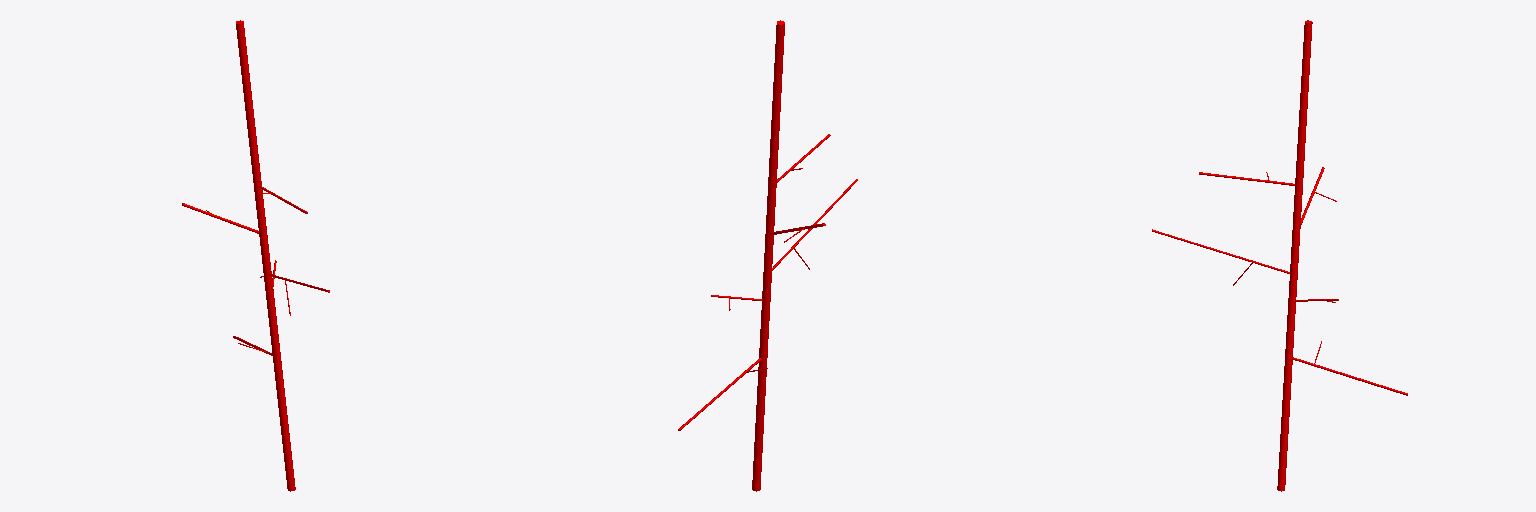
URDF robot description (tree_127.urdf):
<?xml version='1.0' encoding='UTF-8'?>
<robot name="tree_127.urdf">
  <link name="branch_0">
    <inertial>
      <origin xyz="0.0 0.0 0.0" rpy="0.0 -0.0 0.0"/>
      <mass value="0.1"/>
      <inertia ixx="0.001" ixy="0.0" ixz="0.0" iyy="0.001" iyz="0.0" izz="0.001"/>
    </inertial>
    <visual name="branch_0_visual">
      <geometry>
        <cylinder radius="0.06778281076660214" length="8.518709219936921"/>
      </geometry>
      <material name="semantic_material"/>
      <origin xyz="-0.35900316015694433 0.23380783106809552 4.237753216338598" rpy="-1.7443487696411858e-17 0.10075525332266548 2.564325463829873"/>
    </visual>
    <collision name="branch_0_collision">
      <geometry>
        <cylinder radius="0.06778281076660214" length="8.518709219936921"/>
      </geometry>
      <origin xyz="-0.35900316015694433 0.23380783106809552 4.237753216338598" rpy="-1.7443487696411858e-17 0.10075525332266548 2.564325463829873"/>
    </collision>
  </link>
  <link name="branch_1">
    <inertial>
      <origin xyz="0.0 0.0 0.0" rpy="0.0 -0.0 0.0"/>
      <mass value="0.1"/>
      <inertia ixx="0.001" ixy="0.0" ixz="0.0" iyy="0.001" iyz="0.0" izz="0.001"/>
    </inertial>
    <visual name="branch_1_visual">
      <geometry>
        <cylinder radius="0.020718319036234976" length="1.7189051199871772"/>
      </geometry>
      <material name="semantic_material"/>
      <origin xyz="0.0 0.0 0.0" rpy="0.0 -0.0 0.0"/>
    </visual>
    <collision name="branch_1_collision">
      <geometry>
        <cylinder radius="0.020718319036234976" length="1.7189051199871772"/>
      </geometry>
      <origin xyz="0.0 0.0 0.0" rpy="0.0 -0.0 0.0"/>
    </collision>
  </link>
  <link name="branch_2">
    <inertial>
      <origin xyz="0.0 0.0 0.0" rpy="0.0 -0.0 0.0"/>
      <mass value="0.1"/>
      <inertia ixx="0.001" ixy="0.0" ixz="0.0" iyy="0.001" iyz="0.0" izz="0.001"/>
    </inertial>
    <visual name="branch_2_visual">
      <geometry>
        <cylinder radius="0.01" length="0.2423221883651651"/>
      </geometry>
      <material name="semantic_material"/>
      <origin xyz="0.0 0.0 0.0" rpy="0.0 -0.0 0.0"/>
    </visual>
    <collision name="branch_2_collision">
      <geometry>
        <cylinder radius="0.01" length="0.2423221883651651"/>
      </geometry>
      <origin xyz="0.0 0.0 0.0" rpy="0.0 -0.0 0.0"/>
    </collision>
  </link>
  <link name="branch_3">
    <inertial>
      <origin xyz="0.0 0.0 0.0" rpy="0.0 -0.0 0.0"/>
      <mass value="0.1"/>
      <inertia ixx="0.001" ixy="0.0" ixz="0.0" iyy="0.001" iyz="0.0" izz="0.001"/>
    </inertial>
    <visual name="branch_3_visual">
      <geometry>
        <cylinder radius="0.01871146819865618" length="2.536336417005465"/>
      </geometry>
      <material name="semantic_material"/>
      <origin xyz="0.0 0.0 0.0" rpy="0.0 -0.0 0.0"/>
    </visual>
    <collision name="branch_3_collision">
      <geometry>
        <cylinder radius="0.01871146819865618" length="2.536336417005465"/>
      </geometry>
      <origin xyz="0.0 0.0 0.0" rpy="0.0 -0.0 0.0"/>
    </collision>
  </link>
  <link name="branch_4">
    <inertial>
      <origin xyz="0.0 0.0 0.0" rpy="0.0 -0.0 0.0"/>
      <mass value="0.1"/>
      <inertia ixx="0.001" ixy="0.0" ixz="0.0" iyy="0.001" iyz="0.0" izz="0.001"/>
    </inertial>
    <visual name="branch_4_visual">
      <geometry>
        <cylinder radius="0.01" length="0.6154525276943494"/>
      </geometry>
      <material name="semantic_material"/>
      <origin xyz="0.0 0.0 0.0" rpy="0.0 -0.0 0.0"/>
    </visual>
    <collision name="branch_4_collision">
      <geometry>
        <cylinder radius="0.01" length="0.6154525276943494"/>
      </geometry>
      <origin xyz="0.0 0.0 0.0" rpy="0.0 -0.0 0.0"/>
    </collision>
  </link>
  <link name="branch_5">
    <inertial>
      <origin xyz="0.0 0.0 0.0" rpy="0.0 -0.0 0.0"/>
      <mass value="0.1"/>
      <inertia ixx="0.001" ixy="0.0" ixz="0.0" iyy="0.001" iyz="0.0" izz="0.001"/>
    </inertial>
    <visual name="branch_5_visual">
      <geometry>
        <cylinder radius="0.023925391107323394" length="1.4984983322905292"/>
      </geometry>
      <material name="semantic_material"/>
      <origin xyz="0.0 0.0 0.0" rpy="0.0 -0.0 0.0"/>
    </visual>
    <collision name="branch_5_collision">
      <geometry>
        <cylinder radius="0.023925391107323394" length="1.4984983322905292"/>
      </geometry>
      <origin xyz="0.0 0.0 0.0" rpy="0.0 -0.0 0.0"/>
    </collision>
  </link>
  <link name="branch_6">
    <inertial>
      <origin xyz="0.0 0.0 0.0" rpy="0.0 -0.0 0.0"/>
      <mass value="0.1"/>
      <inertia ixx="0.001" ixy="0.0" ixz="0.0" iyy="0.001" iyz="0.0" izz="0.001"/>
    </inertial>
    <visual name="branch_6_visual">
      <geometry>
        <cylinder radius="0.01" length="0.4393510343611775"/>
      </geometry>
      <material name="semantic_material"/>
      <origin xyz="0.0 0.0 0.0" rpy="0.0 -0.0 0.0"/>
    </visual>
    <collision name="branch_6_collision">
      <geometry>
        <cylinder radius="0.01" length="0.4393510343611775"/>
      </geometry>
      <origin xyz="0.0 0.0 0.0" rpy="0.0 -0.0 0.0"/>
    </collision>
  </link>
  <link name="branch_7">
    <inertial>
      <origin xyz="0.0 0.0 0.0" rpy="0.0 -0.0 0.0"/>
      <mass value="0.1"/>
      <inertia ixx="0.001" ixy="0.0" ixz="0.0" iyy="0.001" iyz="0.0" izz="0.001"/>
    </inertial>
    <visual name="branch_7_visual">
      <geometry>
        <cylinder radius="0.01698867268324516" length="0.9959844409962467"/>
      </geometry>
      <material name="semantic_material"/>
      <origin xyz="0.0 0.0 0.0" rpy="0.0 -0.0 0.0"/>
    </visual>
    <collision name="branch_7_collision">
      <geometry>
        <cylinder radius="0.01698867268324516" length="0.9959844409962467"/>
      </geometry>
      <origin xyz="0.0 0.0 0.0" rpy="0.0 -0.0 0.0"/>
    </collision>
  </link>
  <link name="branch_8">
    <inertial>
      <origin xyz="0.0 0.0 0.0" rpy="0.0 -0.0 0.0"/>
      <mass value="0.1"/>
      <inertia ixx="0.001" ixy="0.0" ixz="0.0" iyy="0.001" iyz="0.0" izz="0.001"/>
    </inertial>
    <visual name="branch_8_visual">
      <geometry>
        <cylinder radius="0.01" length="0.2708786821363981"/>
      </geometry>
      <material name="semantic_material"/>
      <origin xyz="0.0 0.0 0.0" rpy="0.0 -0.0 0.0"/>
    </visual>
    <collision name="branch_8_collision">
      <geometry>
        <cylinder radius="0.01" length="0.2708786821363981"/>
      </geometry>
      <origin xyz="0.0 0.0 0.0" rpy="0.0 -0.0 0.0"/>
    </collision>
  </link>
  <link name="branch_9">
    <inertial>
      <origin xyz="0.0 0.0 0.0" rpy="0.0 -0.0 0.0"/>
      <mass value="0.1"/>
      <inertia ixx="0.001" ixy="0.0" ixz="0.0" iyy="0.001" iyz="0.0" izz="0.001"/>
    </inertial>
    <visual name="branch_9_visual">
      <geometry>
        <cylinder radius="0.02161725523111497" length="2.1318150690104907"/>
      </geometry>
      <material name="semantic_material"/>
      <origin xyz="0.0 0.0 0.0" rpy="0.0 -0.0 0.0"/>
    </visual>
    <collision name="branch_9_collision">
      <geometry>
        <cylinder radius="0.02161725523111497" length="2.1318150690104907"/>
      </geometry>
      <origin xyz="0.0 0.0 0.0" rpy="0.0 -0.0 0.0"/>
    </collision>
  </link>
  <link name="branch_10">
    <inertial>
      <origin xyz="0.0 0.0 0.0" rpy="0.0 -0.0 0.0"/>
      <mass value="0.1"/>
      <inertia ixx="0.001" ixy="0.0" ixz="0.0" iyy="0.001" iyz="0.0" izz="0.001"/>
    </inertial>
    <visual name="branch_10_visual">
      <geometry>
        <cylinder radius="0.01" length="0.5558819730737448"/>
      </geometry>
      <material name="semantic_material"/>
      <origin xyz="0.0 0.0 0.0" rpy="0.0 -0.0 0.0"/>
    </visual>
    <collision name="branch_10_collision">
      <geometry>
        <cylinder radius="0.01" length="0.5558819730737448"/>
      </geometry>
      <origin xyz="0.0 0.0 0.0" rpy="0.0 -0.0 0.0"/>
    </collision>
  </link>
  <joint name="joint_0_1" type="fixed">
    <parent link="branch_0"/>
    <child link="branch_1"/>
    <axis xyz="1. 0. 0."/>
    <origin xyz="-0.49502542917894976 -0.5487310236595776 5.616218463240477" rpy="0.6278817564323169 1.424530753938499 -0.9704202349749887"/>
  </joint>
  <joint name="joint_0_3" type="fixed">
    <parent link="branch_0"/>
    <child link="branch_3"/>
    <axis xyz="1. 0. 0."/>
    <origin xyz="-0.4458103411601589 -0.9949932660586619 4.2639811889164285" rpy="0.29998689629091435 1.2685652759676973 -1.3523019546057347"/>
  </joint>
  <joint name="joint_0_5" type="fixed">
    <parent link="branch_0"/>
    <child link="branch_5"/>
    <axis xyz="1. 0. 0."/>
    <origin xyz="-1.026562020332673 0.48826644790051854 4.959490380209879" rpy="0.05471967290949808 1.121841967433416 2.850713412331476"/>
  </joint>
  <joint name="joint_0_7" type="fixed">
    <parent link="branch_0"/>
    <child link="branch_7"/>
    <axis xyz="1. 0. 0."/>
    <origin xyz="-0.015832831724621008 0.5816417619967571 3.5630815779155682" rpy="-0.35184908753381056 1.2751985013071767 0.5941824577709244"/>
  </joint>
  <joint name="joint_0_9" type="fixed">
    <parent link="branch_0"/>
    <child link="branch_9"/>
    <axis xyz="1. 0. 0."/>
    <origin xyz="-0.022765590733575047 1.1477826981330925 2.1365313714052703" rpy="-2.7947385684359265 1.2975899787227763 -1.3882951741514098"/>
  </joint>
  <joint name="joint_1_2" type="fixed">
    <parent link="branch_0"/>
    <child link="branch_2"/>
    <axis xyz="1. 0. 0."/>
    <origin xyz="-0.5968710375763149 -0.22360929546461109 5.612091568463061" rpy="-1.2589068950395872 0.043294493026435836 1.7781339193422232"/>
  </joint>
  <joint name="joint_3_4" type="fixed">
    <parent link="branch_0"/>
    <child link="branch_4"/>
    <axis xyz="1. 0. 0."/>
    <origin xyz="-0.4477918122393136 -0.6487001238403596 3.860031223426872" rpy="-3.001276894604666 0.6130416956403394 1.522885653627723"/>
  </joint>
  <joint name="joint_5_6" type="fixed">
    <parent link="branch_0"/>
    <child link="branch_6"/>
    <axis xyz="1. 0. 0."/>
    <origin xyz="-1.134159249378271 0.7532499373312167 4.991865298152472" rpy="-1.866877163138915 0.4206416314589419 -0.4600299925050677"/>
  </joint>
  <joint name="joint_7_8" type="fixed">
    <parent link="branch_0"/>
    <child link="branch_8"/>
    <axis xyz="1. 0. 0."/>
    <origin xyz="0.012469060760690962 0.8230184767347187 3.5565722815643435" rpy="2.0158323742660396 0.3799350611997699 -2.3896115573386645"/>
  </joint>
  <joint name="joint_9_10" type="fixed">
    <parent link="branch_0"/>
    <child link="branch_10"/>
    <axis xyz="1. 0. 0."/>
    <origin xyz="-0.3708647925428789 0.6301444772654443 2.4077899762948953" rpy="1.1274371578565845 -0.24462106815553336 -1.7212470655655303"/>
  </joint>
  <material name="semantic_material">
    <color rgba="1. 0. 0. 1."/>
  </material>
</robot>

--- What the picture shows (computed from the rendered views, not written in the file) ---
3 views of the same robot in one strip: view 1: azimuth 30°, elevation 25°; view 2: azimuth 150°, elevation 25°; view 3: azimuth 270°, elevation 25° (orthographic).
Robot: tree_127.urdf — 11 links, 10 joints (10 fixed); root link branch_0; default pose: all joints at 0.
Visible links, largest first — view 1: branch_0; view 2: branch_0; view 3: branch_0.
Link boxes in pixels (x1=…): branch_0: x1=236, y1=20, x2=295, y2=491; branch_0: x1=752, y1=20, x2=784, y2=491; branch_0: x1=1277, y1=20, x2=1312, y2=491.
Bounding box of the posed robot: 1.95 × 4.38 × 8.49 m (x, y, z).
Geometry: primitives only (box / cylinder / sphere), no mesh files.
